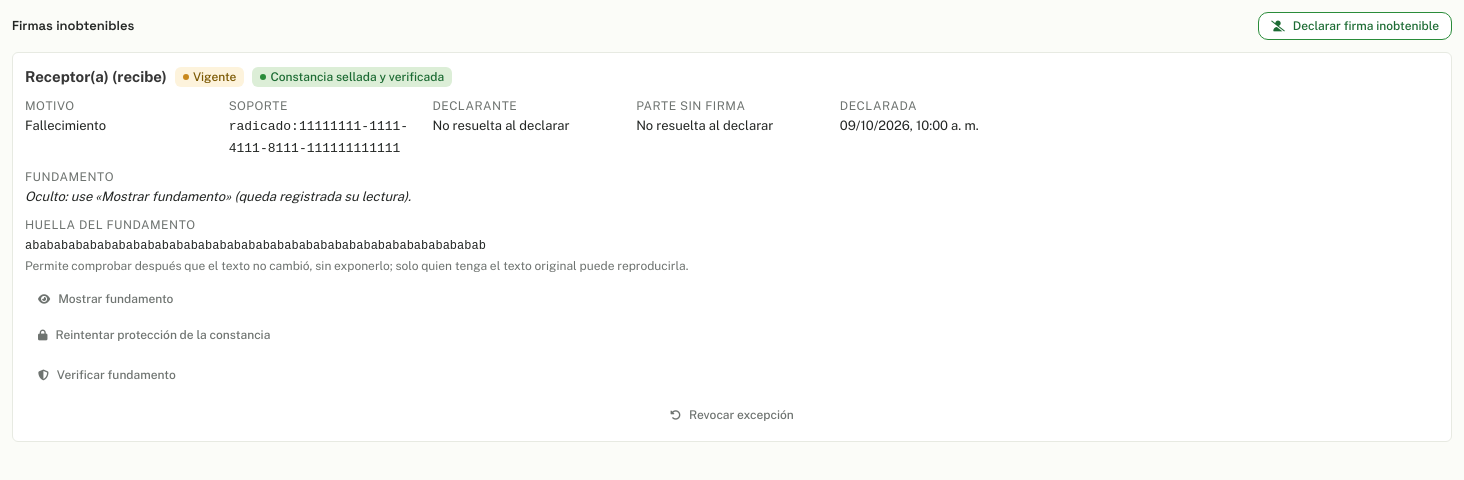
Test: ExcepcionesFirma — foco, jerga y accesibilidad › el reintento fallido explica el estado en español y no dice «sobre (agotado)»
Click the 3rd button named "reintentar protección de la constancia" at {"x": 154, "y": 335}, box left=25, top=321, right=283, bottom=349
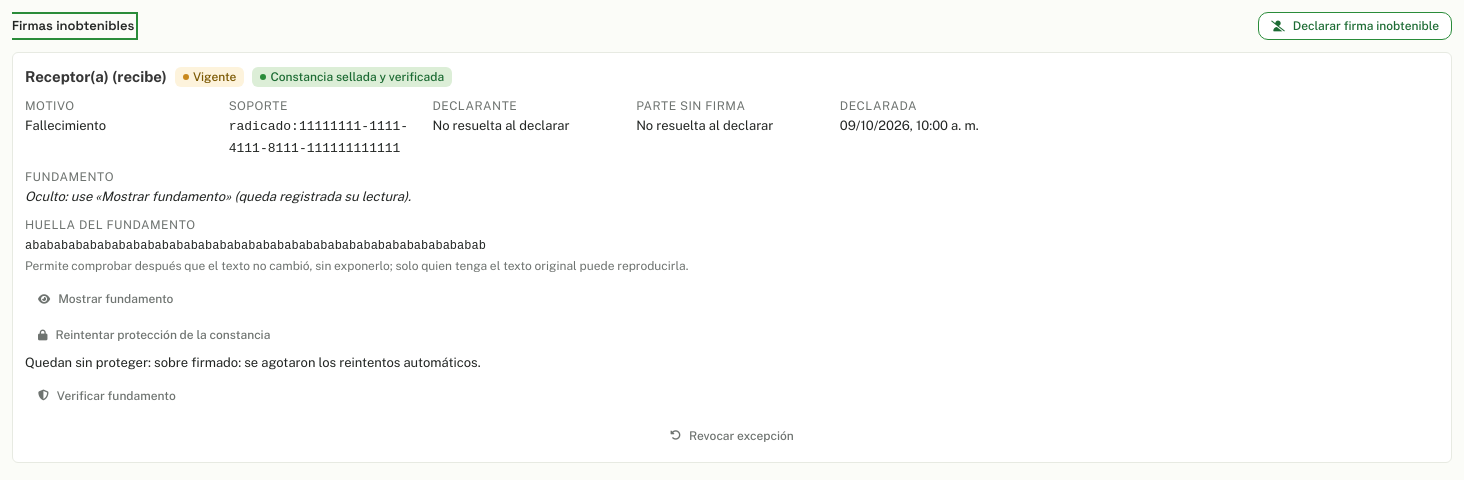
Expected: the text with test id "reintento-resultado" shows "sobre firmado: se agotaron los reintentos", left=25, top=355, right=481, bottom=370
